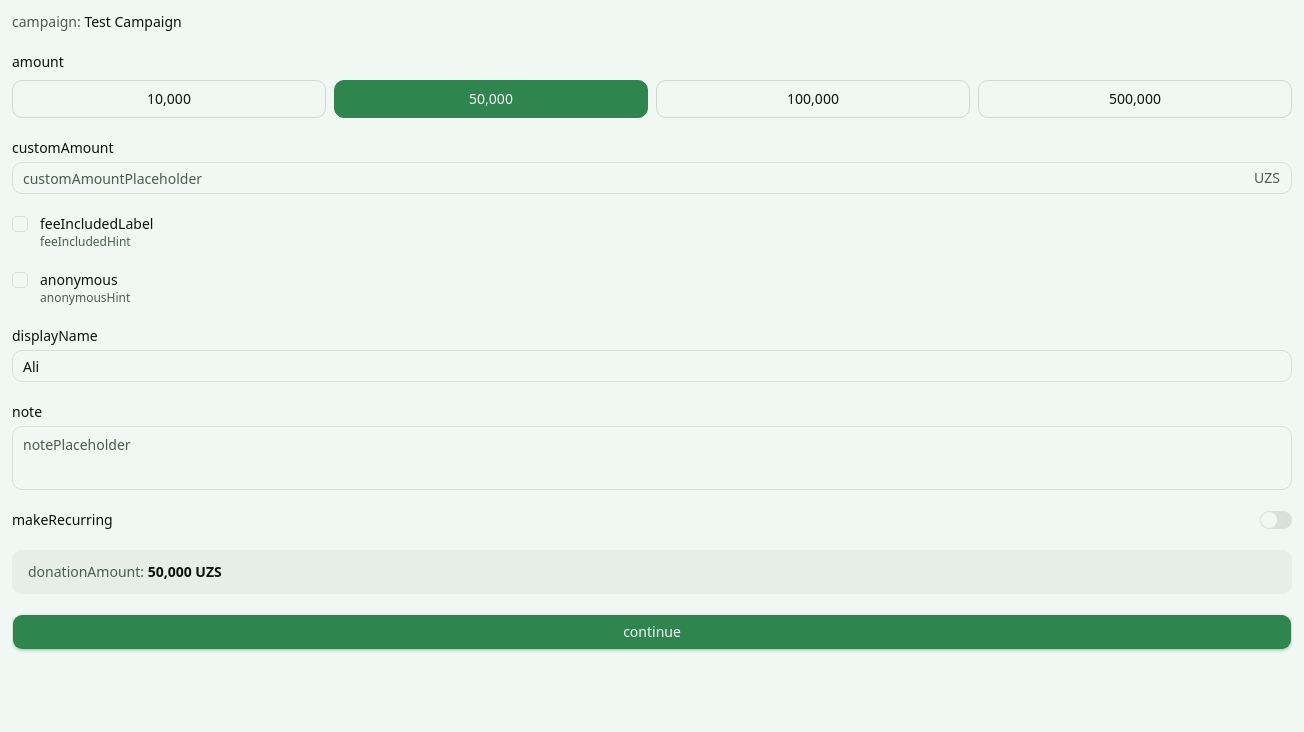
it: DonationAmountStep › shows OTP notice for amounts over 100,000
// Click the 500,000 chip (above OTP threshold) — find the chip button specifically
Click the button "500,000": (1135, 99) 978,80 -> 1292,118
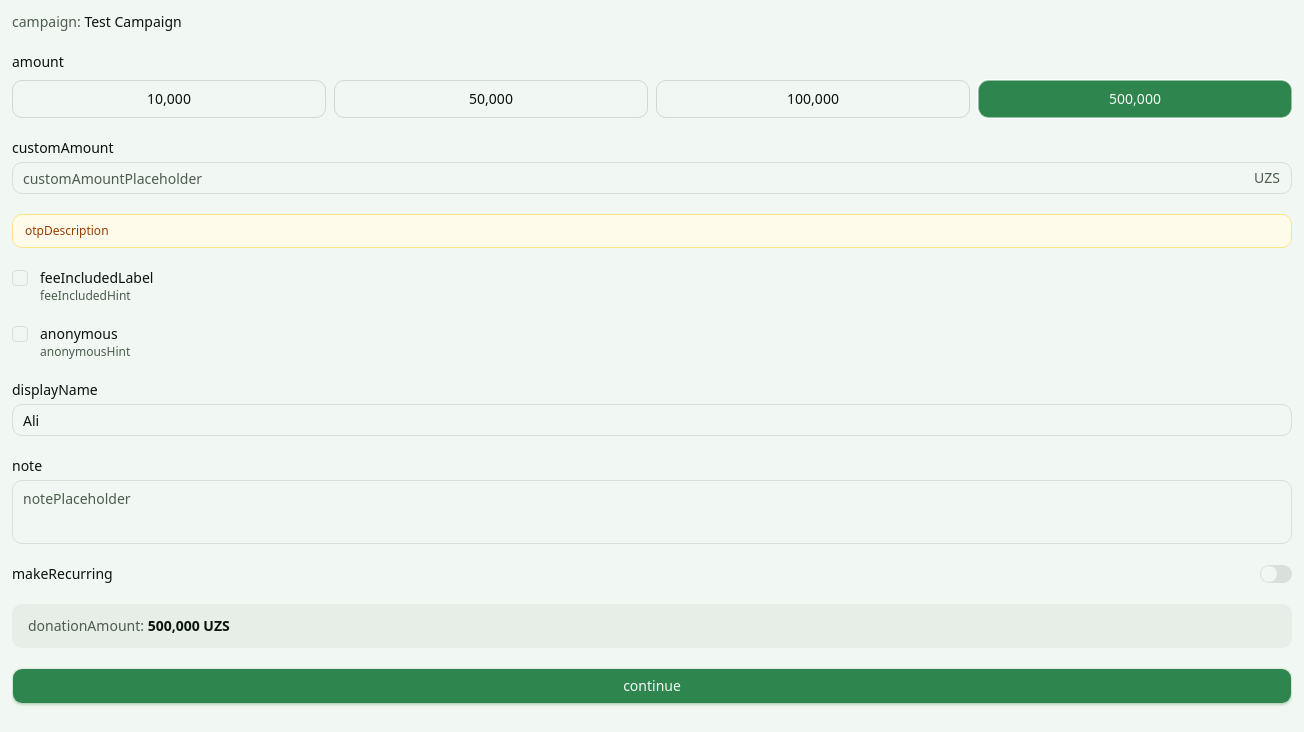
Expected: the text "otpDescription" is shown, 12,214 -> 1292,248
